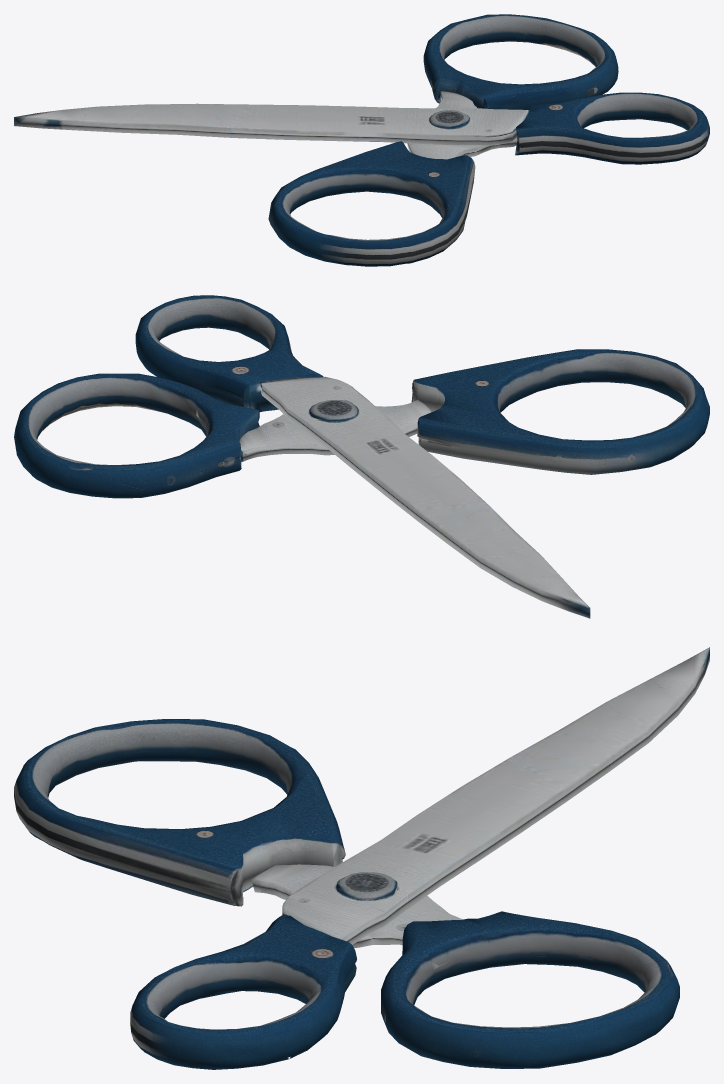
Rendered from scissors.glb.
3 views of the same model, one above another, from view 1: azimuth 30°, elevation 25°; view 2: azimuth 150°, elevation 25°; view 3: azimuth 270°, elevation 25° (orthographic). The views are drawn at different scales.
Bounding box in the file's own units: 0.9556 × 0.0523 × 0.7168.
1 material, 1 textured.
